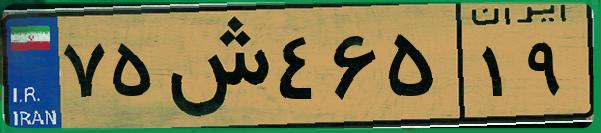1: (475, 38, 525, 113)
4: (270, 28, 330, 110)
5: (385, 28, 445, 110), (110, 28, 158, 98)
6: (330, 28, 385, 110)
7: (57, 26, 110, 100)
9: (525, 38, 570, 115)
ش: (158, 12, 270, 120)
